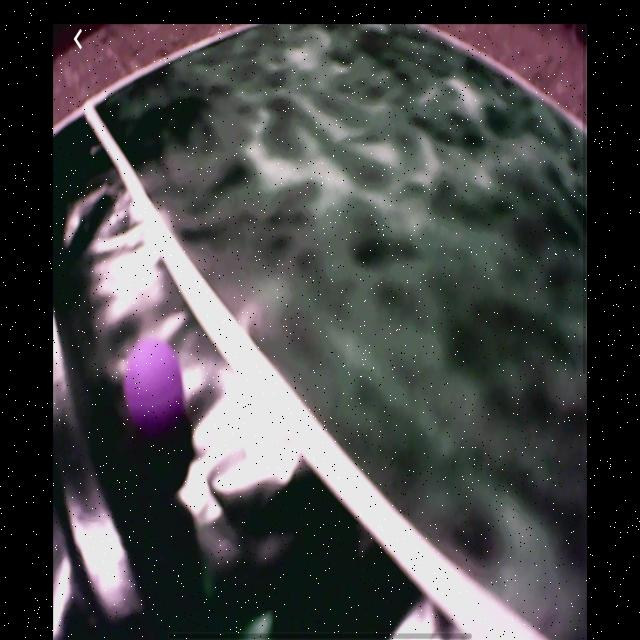ball: (124, 339, 184, 427)
